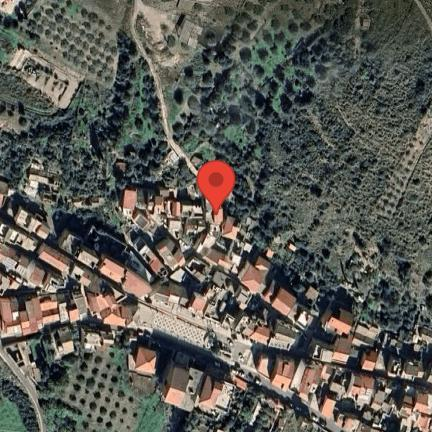area_open: (126, 295, 263, 380), (179, 365, 207, 412)
built: (5, 341, 39, 385), (15, 254, 54, 291), (0, 222, 36, 253), (164, 366, 190, 406), (206, 288, 234, 325), (326, 304, 357, 336), (17, 210, 50, 239), (199, 374, 225, 410), (87, 285, 118, 315), (38, 244, 71, 272), (139, 246, 167, 278), (123, 271, 153, 297), (272, 358, 295, 391), (185, 256, 213, 283), (159, 241, 185, 270), (273, 288, 298, 317), (241, 264, 265, 294), (0, 242, 23, 272), (25, 297, 44, 333), (57, 231, 82, 257), (100, 258, 126, 283), (136, 347, 158, 374), (310, 341, 337, 363), (69, 265, 95, 287), (0, 297, 15, 335), (299, 367, 315, 402), (273, 323, 297, 345), (101, 305, 126, 326), (296, 309, 317, 334), (184, 221, 210, 241), (334, 339, 353, 365), (73, 290, 90, 319), (13, 310, 31, 336), (204, 244, 226, 265), (249, 323, 271, 344), (57, 327, 74, 354), (317, 363, 337, 385), (258, 357, 276, 381), (356, 322, 380, 340), (348, 374, 363, 402), (77, 251, 99, 270), (0, 271, 22, 290), (336, 413, 358, 432), (402, 359, 421, 381), (304, 285, 322, 308), (360, 348, 378, 371), (83, 328, 103, 347), (58, 293, 70, 324), (236, 288, 253, 309), (168, 284, 185, 305), (42, 309, 61, 327), (413, 414, 432, 432), (222, 218, 239, 238), (235, 314, 252, 334), (414, 393, 429, 415), (256, 256, 272, 276), (123, 189, 138, 210), (321, 399, 336, 420), (39, 295, 58, 311), (330, 382, 347, 399), (134, 212, 150, 230), (192, 293, 207, 312), (1, 183, 11, 211), (371, 391, 385, 411), (182, 206, 203, 219), (220, 255, 236, 272), (361, 377, 375, 396), (382, 397, 396, 416), (170, 268, 187, 283), (356, 423, 384, 432), (231, 376, 249, 390), (395, 419, 414, 432), (399, 403, 413, 420), (387, 359, 401, 376), (169, 221, 181, 240), (264, 287, 277, 304), (69, 303, 80, 323), (101, 331, 115, 346), (362, 411, 377, 421), (155, 197, 164, 212), (172, 201, 181, 216), (214, 209, 223, 224), (148, 194, 155, 210), (403, 395, 413, 405), (427, 365, 432, 384)
vegetation_high: (0, 36, 175, 240), (167, 386, 332, 432), (160, 158, 202, 199)
vegetation_low: (135, 2, 432, 334), (0, 0, 136, 113), (30, 333, 164, 432), (0, 355, 44, 432), (383, 333, 432, 360)
